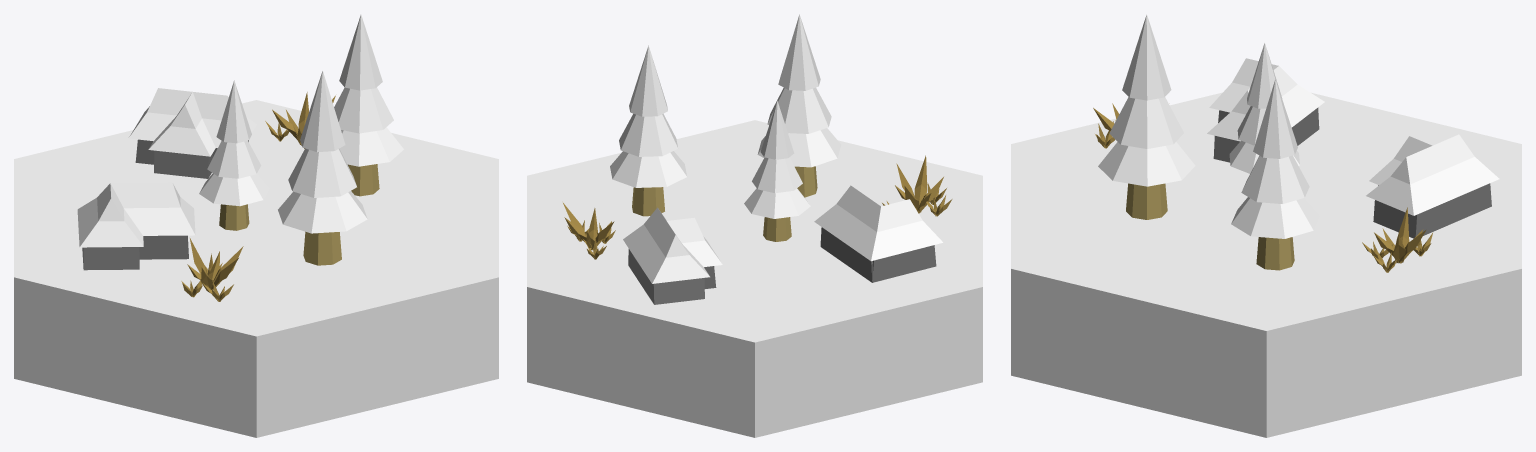
File: Casas_Pinos_Bajos_Nieve_2.fbx
3 renders of one model, left to right at view 1: azimuth 30°, elevation 25°; view 2: azimuth 150°, elevation 25°; view 3: azimuth 270°, elevation 25°, orthographic. The views are drawn at different scales.
Visible parts, largest first — view 1: Casas_Pinos_Bajos_Nieve_2; view 2: Casas_Pinos_Bajos_Nieve_2; view 3: Casas_Pinos_Bajos_Nieve_2.
Part boxes in pixels (left/top/right/bottom): Casas_Pinos_Bajos_Nieve_2: left=14, top=14, right=498, bottom=437; Casas_Pinos_Bajos_Nieve_2: left=527, top=14, right=982, bottom=437; Casas_Pinos_Bajos_Nieve_2: left=1011, top=14, right=1521, bottom=437.
Size of the model in its own units: 200 by 114 by 173.
